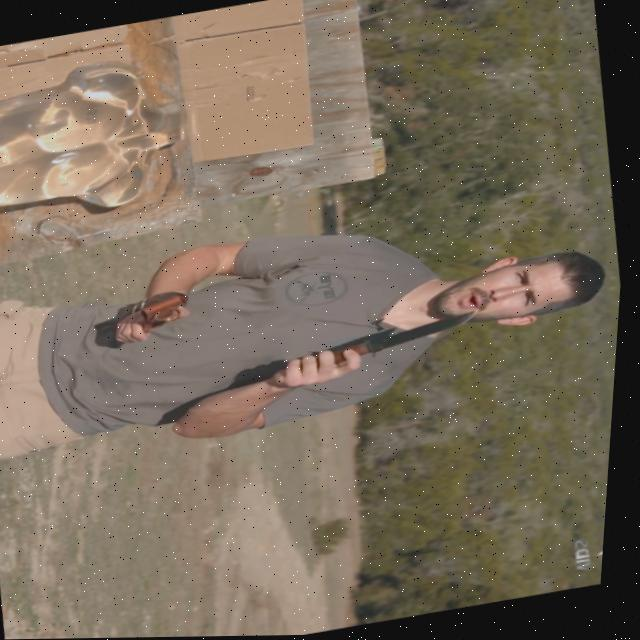knife: (345, 305, 490, 363), (140, 290, 188, 335)
